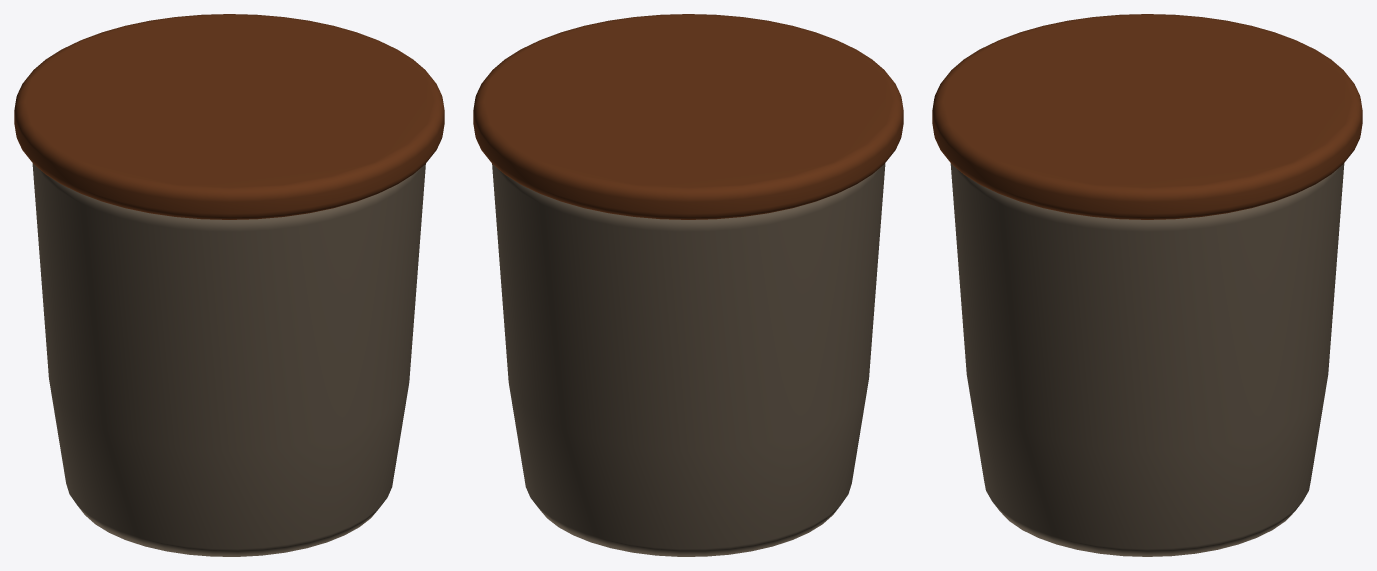
File: side-table-lod0.glb
3 views of the same model, side by side, from view 1: azimuth 30°, elevation 25°; view 2: azimuth 150°, elevation 25°; view 3: azimuth 270°, elevation 25° (orthographic).
Visible parts, largest first — view 1: Warm cast concrete, Oiled teak; view 2: Warm cast concrete, Oiled teak; view 3: Warm cast concrete, Oiled teak.
Boxes of the visible parts, left/top/right/bottom form: Warm cast concrete: left=32, top=163, right=425, bottom=556; Oiled teak: left=14, top=14, right=444, bottom=219; Warm cast concrete: left=492, top=163, right=885, bottom=556; Oiled teak: left=473, top=14, right=903, bottom=219; Warm cast concrete: left=950, top=163, right=1344, bottom=556; Oiled teak: left=932, top=14, right=1362, bottom=219.
Size of the model in its own units: 0.508 by 0.508 by 0.508.
